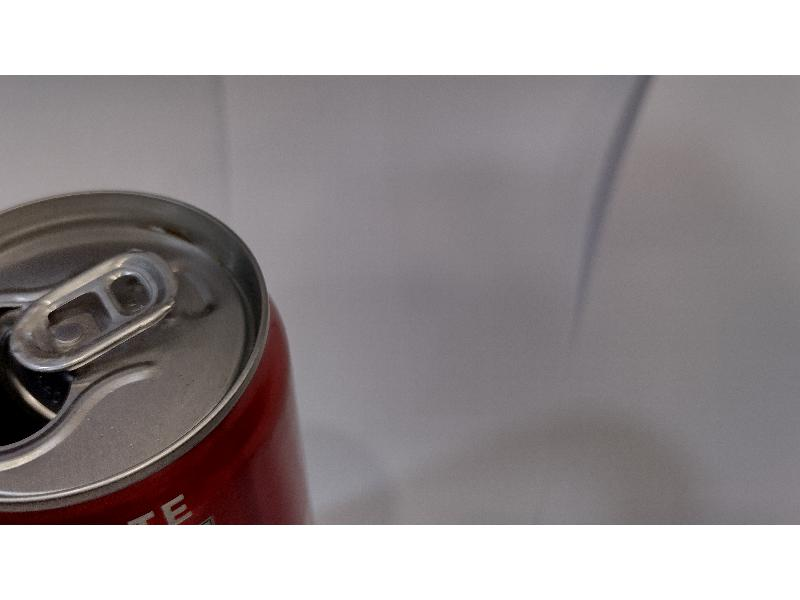can: (2, 174, 317, 520)
